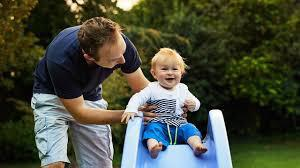child: (126, 47, 212, 156)
